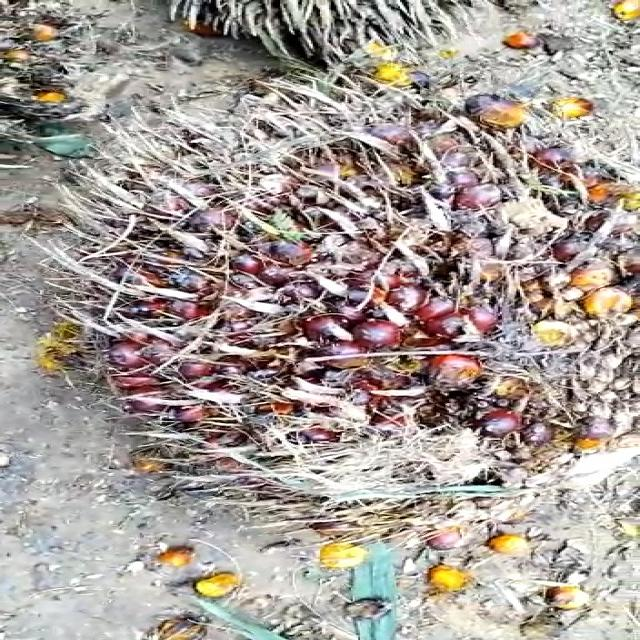palm oil: (63, 66, 640, 558)
